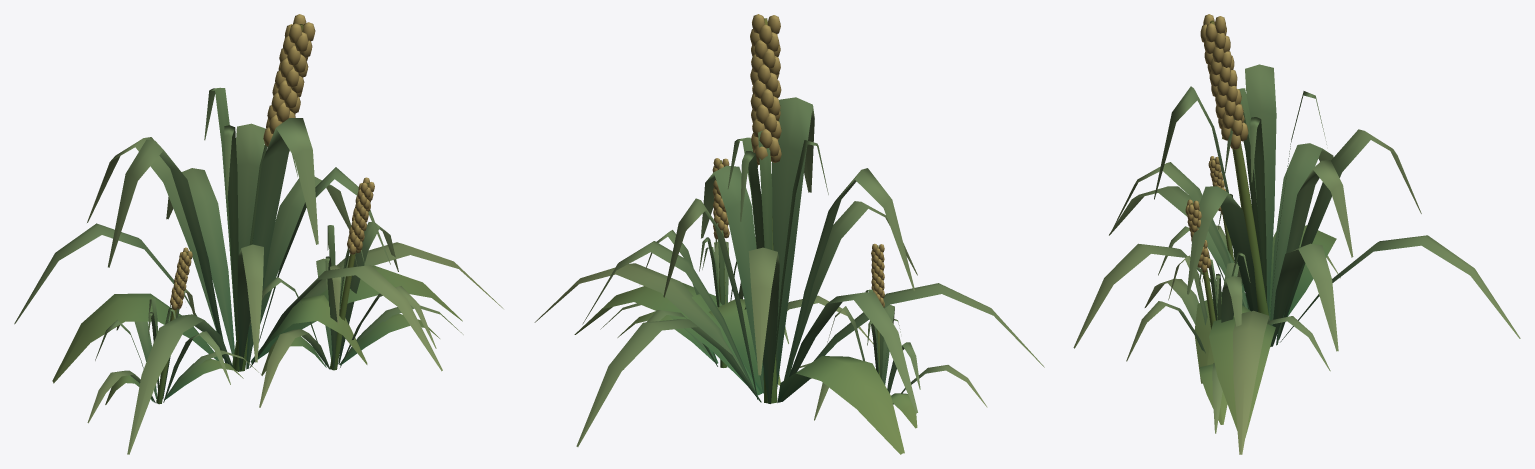
3 views of the same model, side by side, from view 1: azimuth 30°, elevation 25°; view 2: azimuth 150°, elevation 25°; view 3: azimuth 270°, elevation 25° (orthographic). The views are drawn at different scales.
Parts seen in each view (by area): view 1: Leaves, Stems; view 2: Leaves, Stems; view 3: Leaves, Stems.
Boxes of the visible parts, <box> form: Leaves: <box>14,87,503,454</box>; Stems: <box>156,14,374,404</box>; Leaves: <box>534,97,1044,454</box>; Stems: <box>712,14,884,403</box>; Leaves: <box>1073,64,1520,454</box>; Stems: <box>1185,14,1270,346</box>.
Size of the model in its own units: 1.5 by 1.18 by 1.37.
